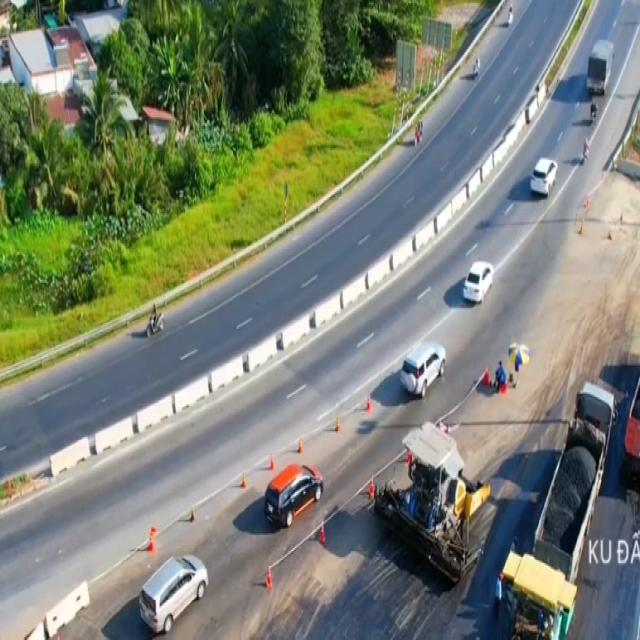car: (137, 552, 208, 636), (263, 461, 324, 531), (400, 340, 446, 395), (464, 261, 495, 305), (529, 155, 559, 198)
motorbike: (147, 302, 165, 336)
truck: (587, 34, 616, 96)
